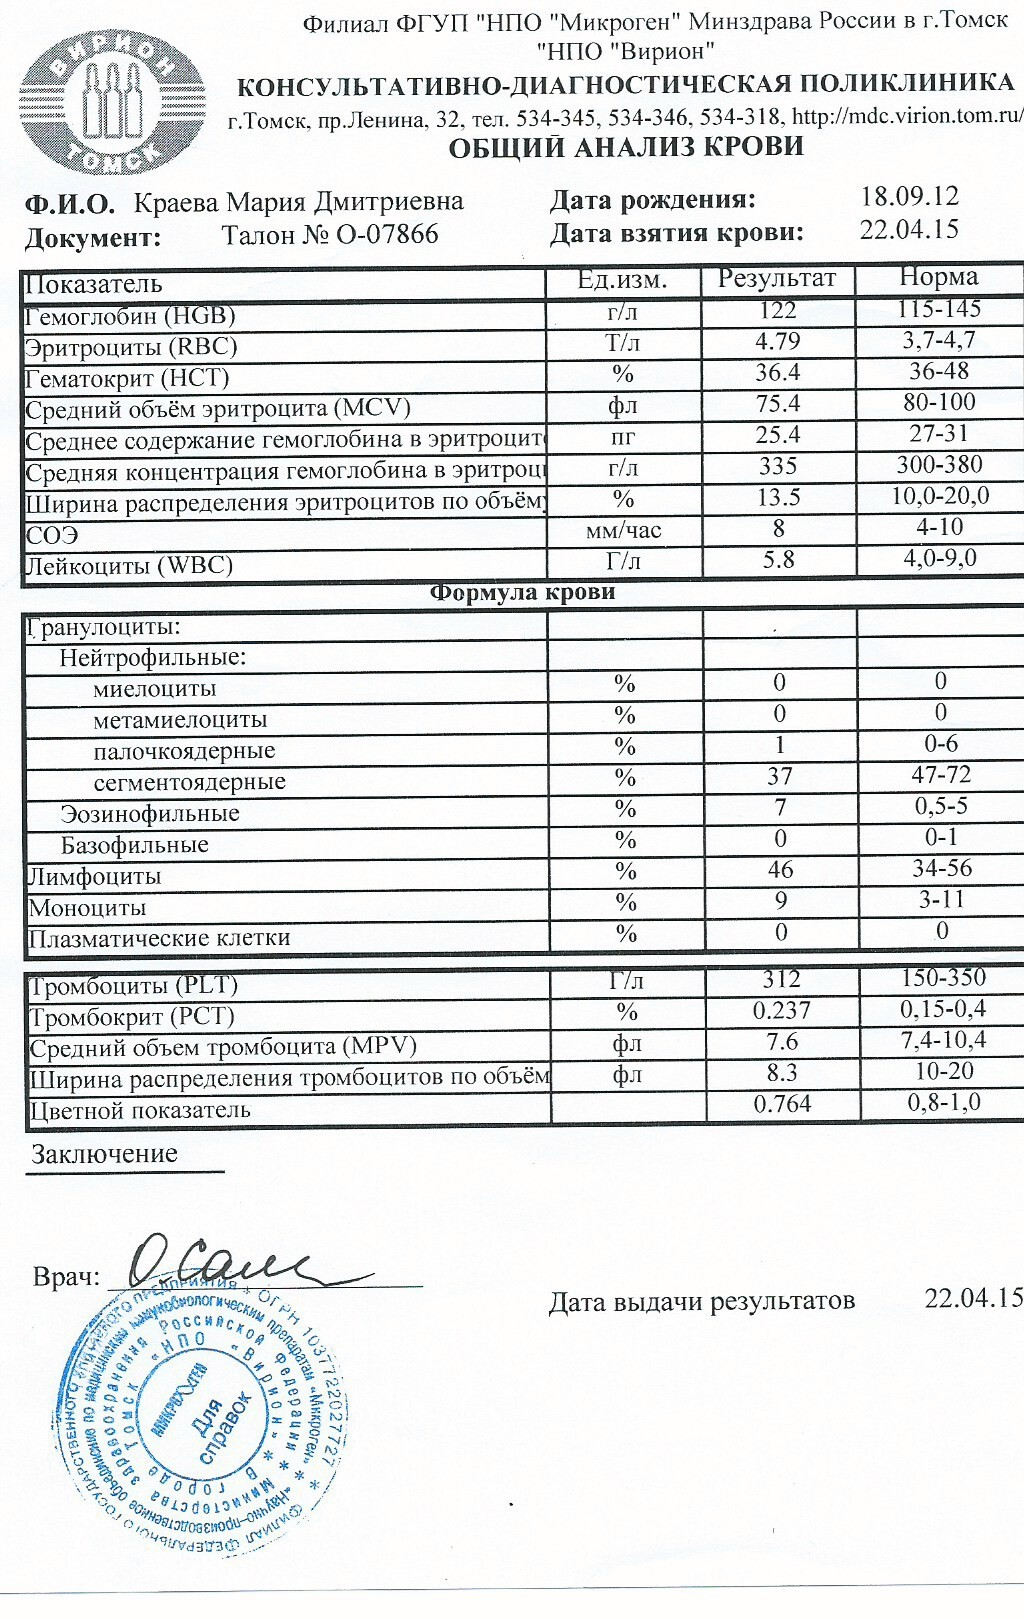column: (24, 263, 545, 578), (26, 607, 291, 950), (28, 966, 551, 1124), (716, 263, 838, 578), (892, 263, 990, 578), (576, 263, 667, 578), (910, 607, 973, 950), (899, 966, 987, 1124), (766, 607, 794, 950), (751, 966, 813, 1124), (613, 607, 637, 950), (608, 966, 645, 1124)
